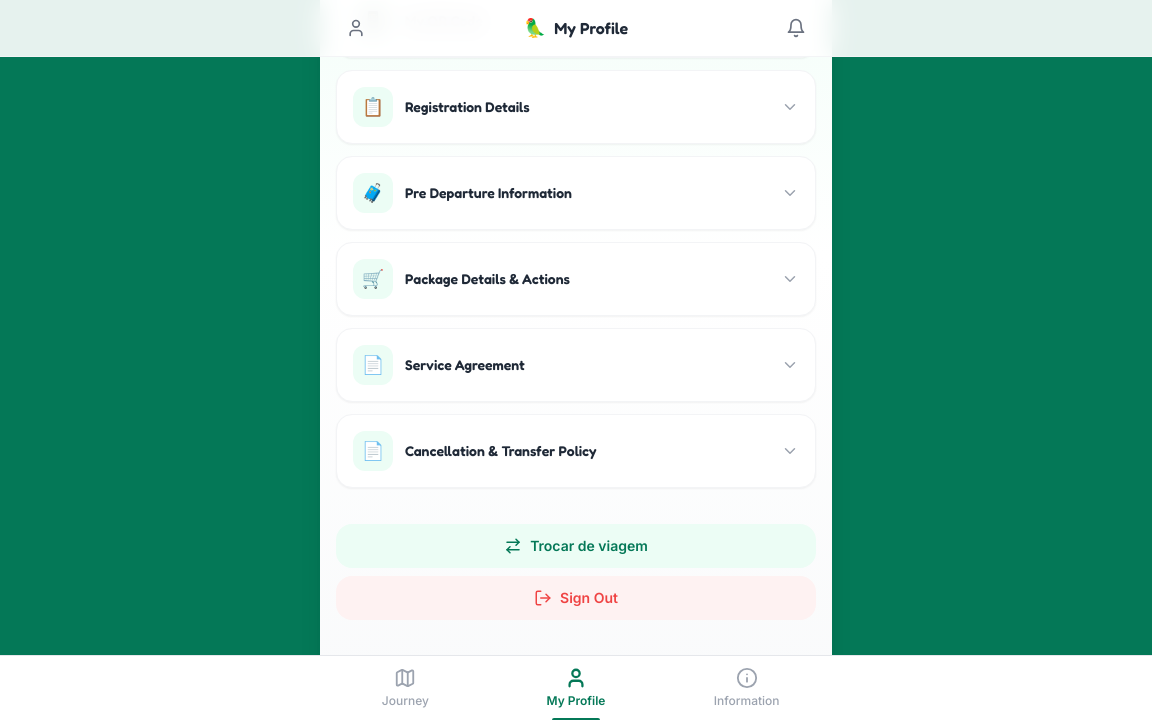
Test: ProfileScreen › keeps the current session if selecting a new trip fails
(page scrolled)
Click the button "Trocar de viagem": (576, 546) [336,524,816,568]
(page scrolled)
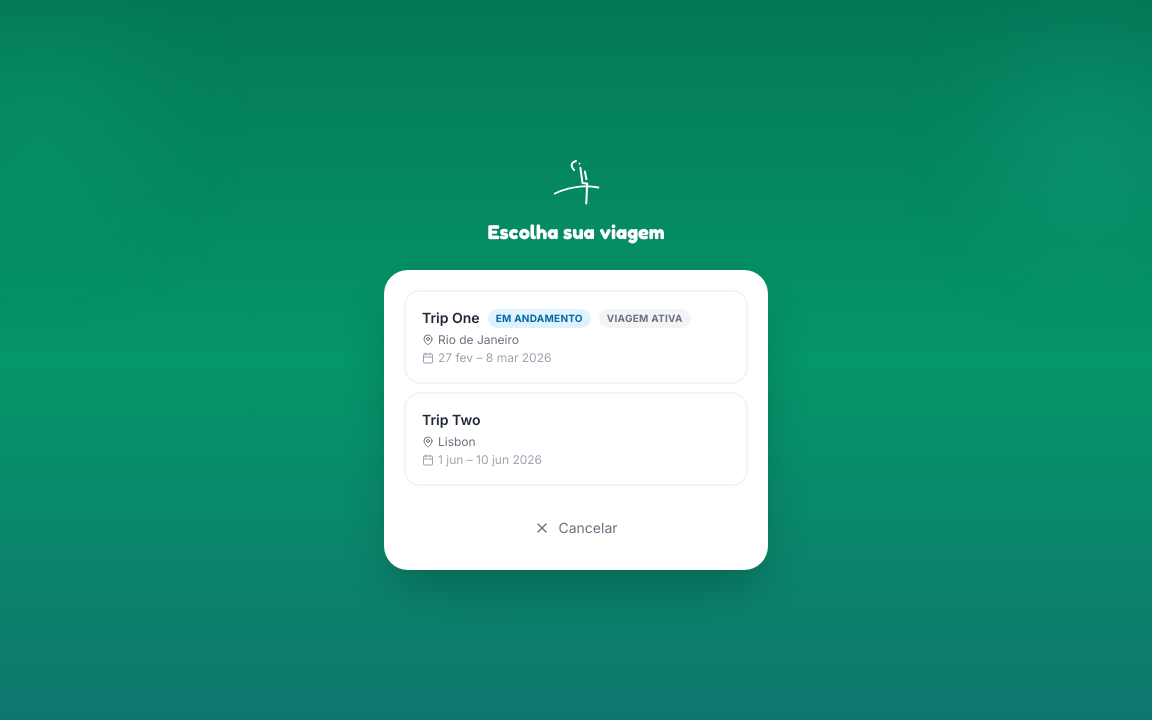
Expected: the heading "Escolha sua viagem" is shown, [487,218,665,246]
Click the button "Trip Two Lisbon 1 jun – 10 jun 2026": (451, 420) [404,392,748,486]
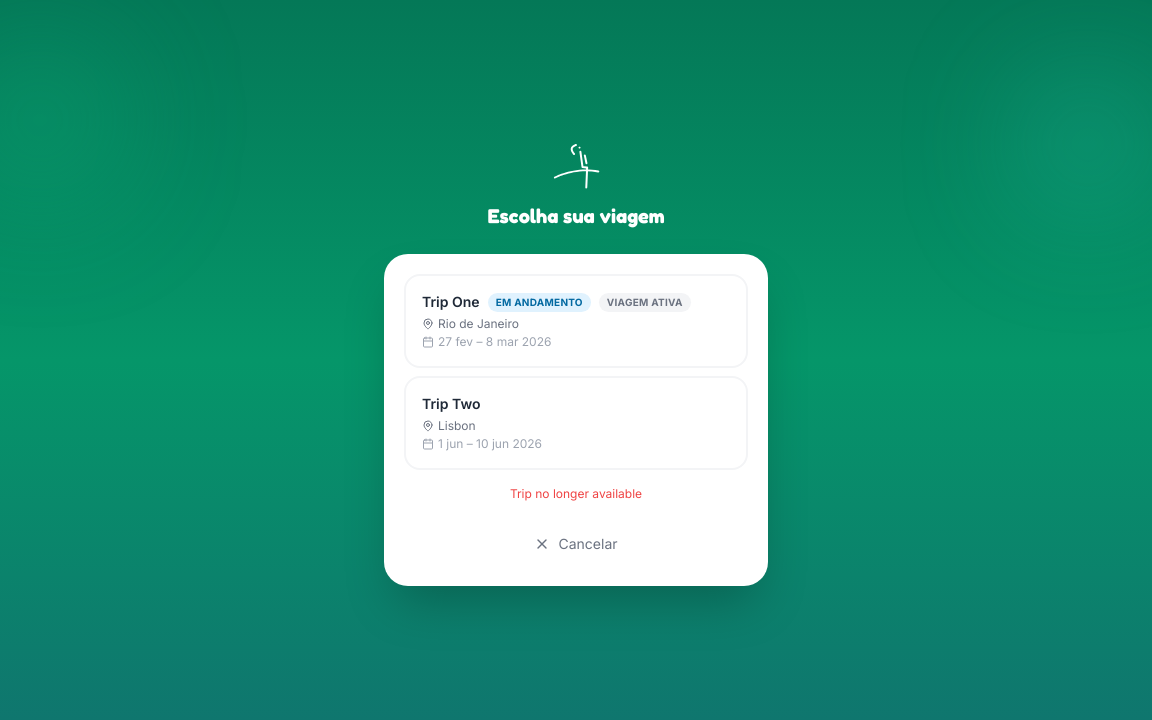
Expected: the heading "Escolha sua viagem" is shown, [487,202,665,230]
Expected: the message "Trip no longer available" is shown, [510,486,642,501]
